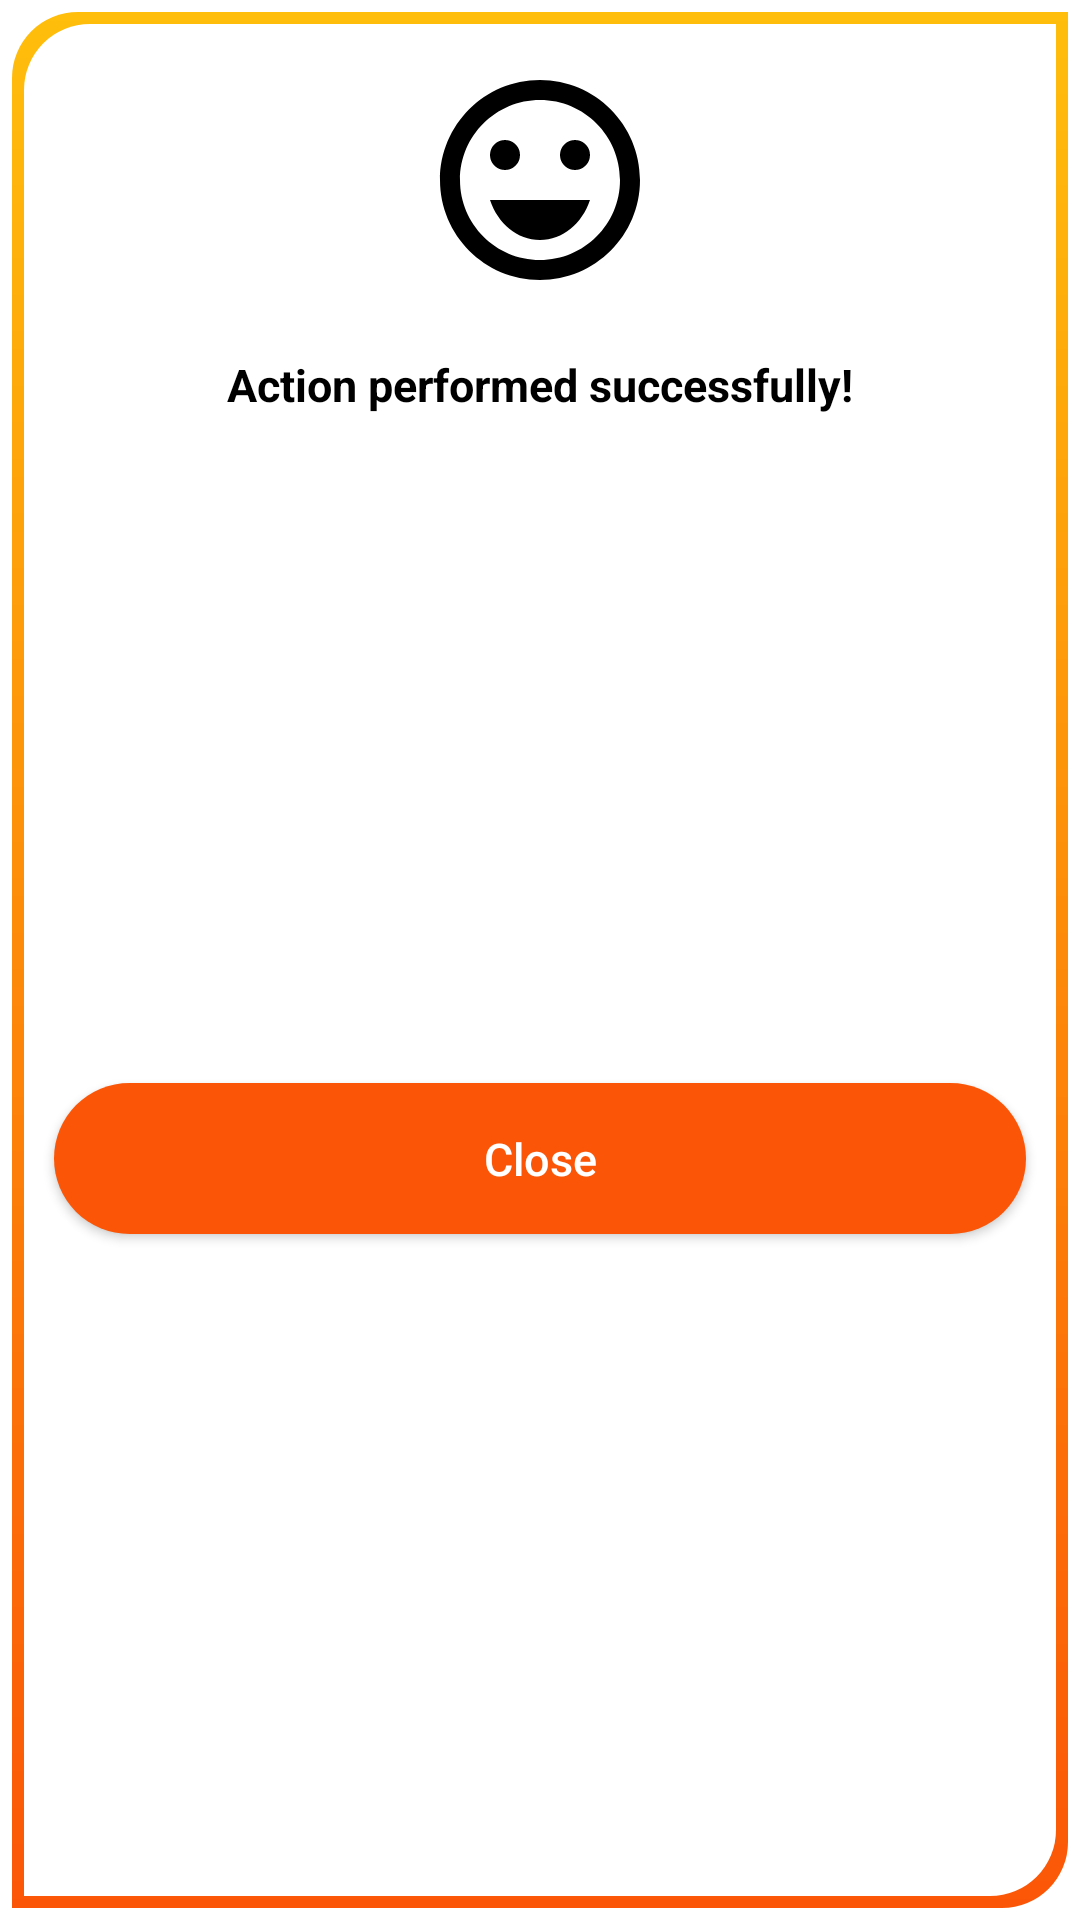

Screen size 1080w x 1920h. Icon name, then its center in pixels as point (x, y):
happy face: point (539, 180)
